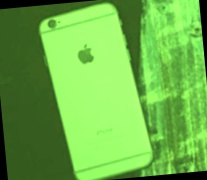iphone: (44, 3, 148, 180)
